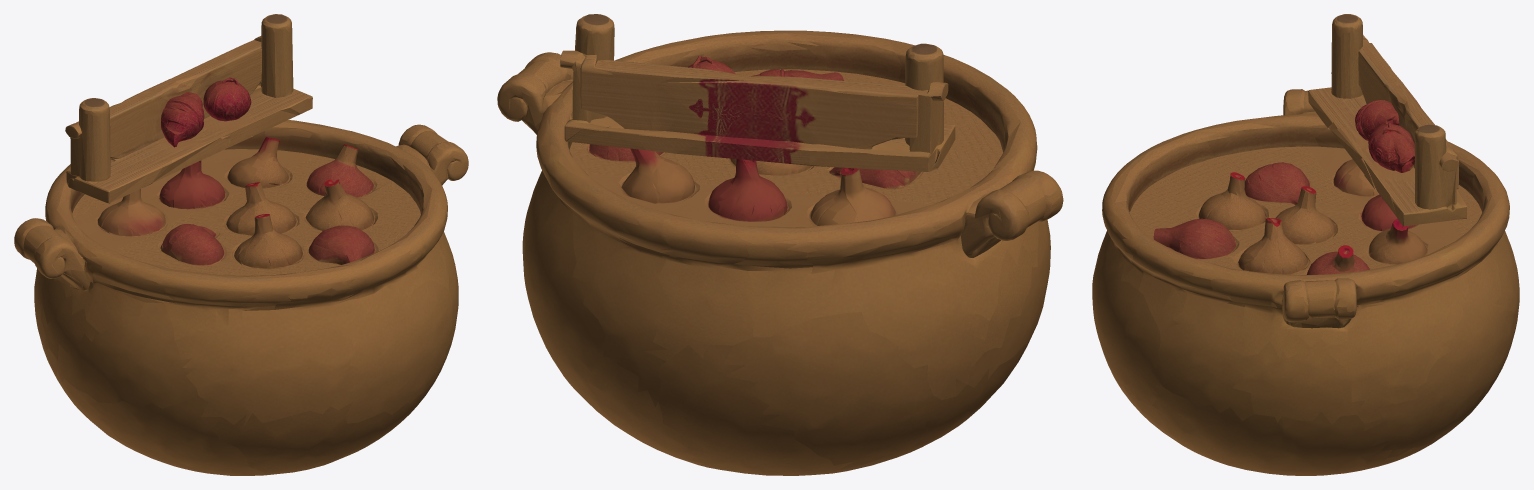
Rendered from PROP_REELING_POT_001.glb.
3 renders of one model, left to right at view 1: azimuth 30°, elevation 25°; view 2: azimuth 150°, elevation 25°; view 3: azimuth 270°, elevation 25°, orthographic. The views are drawn at different scales.
Bounding box in the file's own units: 1.9 × 1.46 × 1.64.
Materials: 1 (1 with a texture image).
